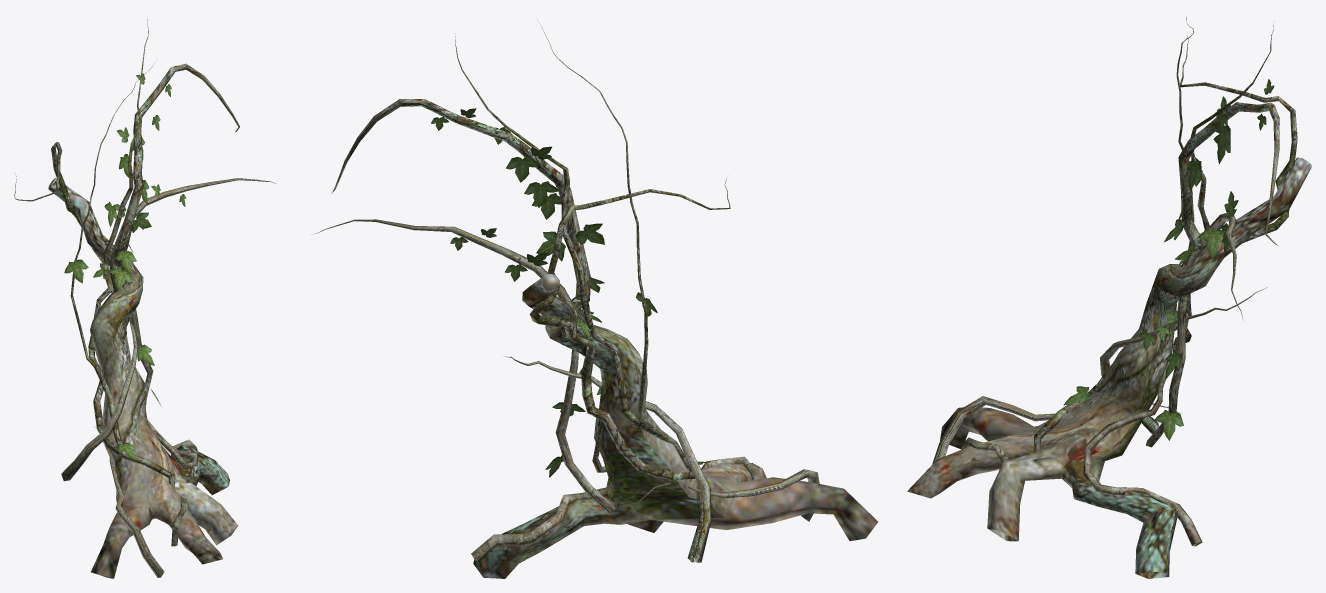
File: Y_SHU.fbx
3 renders of one model, left to right at view 1: azimuth 30°, elevation 25°; view 2: azimuth 150°, elevation 25°; view 3: azimuth 270°, elevation 25°, orthographic. The views are drawn at different scales.
Visible parts, largest first — view 1: Y_SHU; view 2: Y_SHU; view 3: Y_SHU.
Part boxes in pixels (x1=…): Y_SHU: x1=14, y1=19, x2=276, y2=578; Y_SHU: x1=314, y1=23, x2=877, y2=578; Y_SHU: x1=907, y1=17, x2=1311, y2=578.
Bounding box in the file's own units: 39.14 × 55.56 × 36.86.
